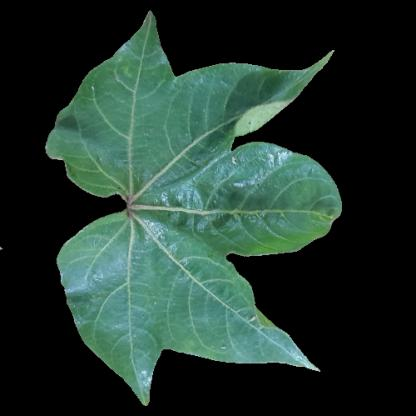healthy: (89, 236, 237, 345), (94, 88, 232, 177), (135, 177, 229, 250), (237, 153, 313, 241), (123, 43, 173, 101)
